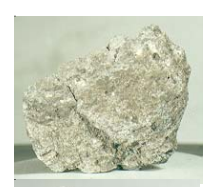Breccia: (27, 26, 179, 176)
